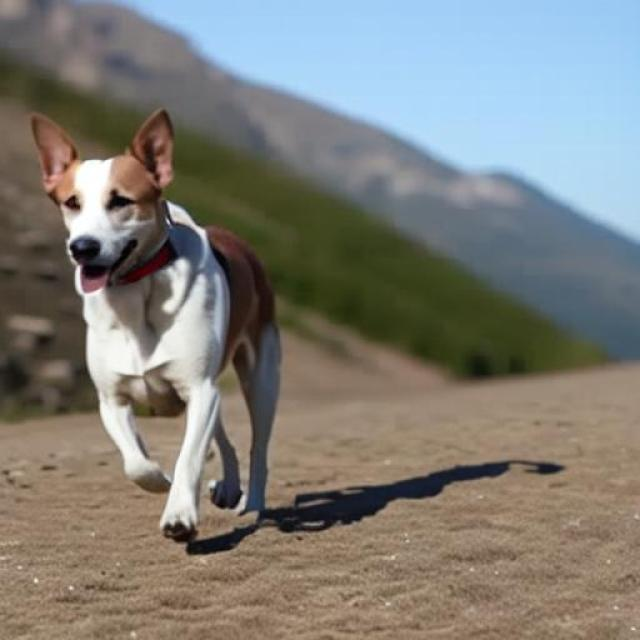Dog: (29, 109, 282, 545)
